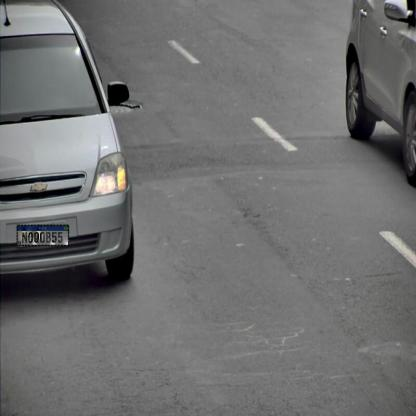PlacaM: (17, 225, 69, 246)
